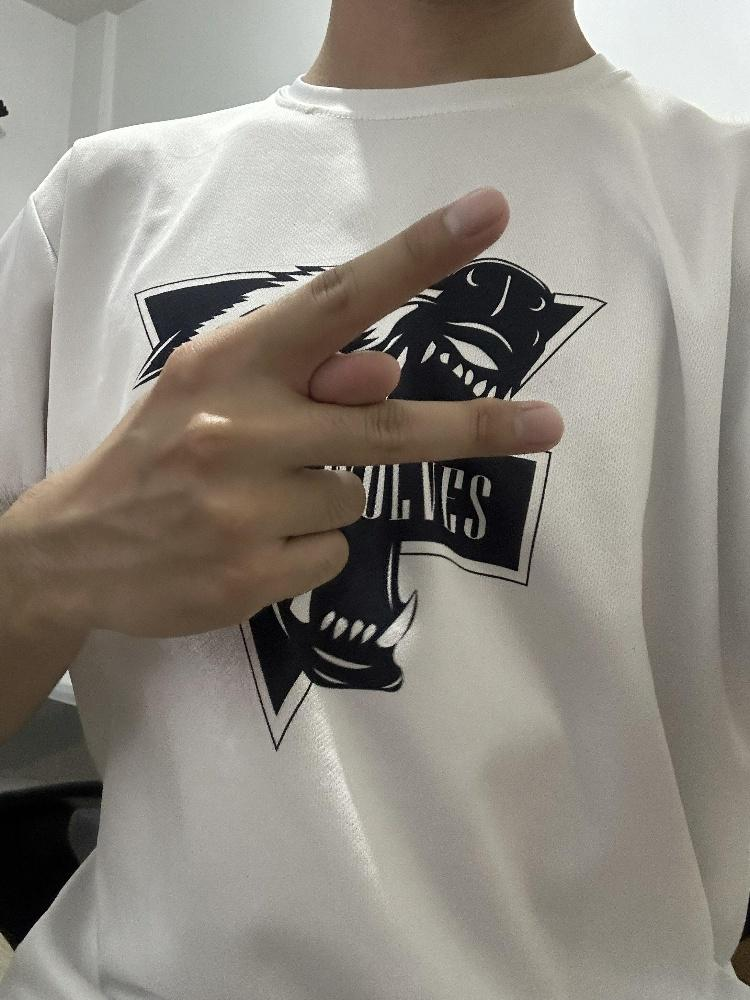k: (68, 182, 566, 642)
